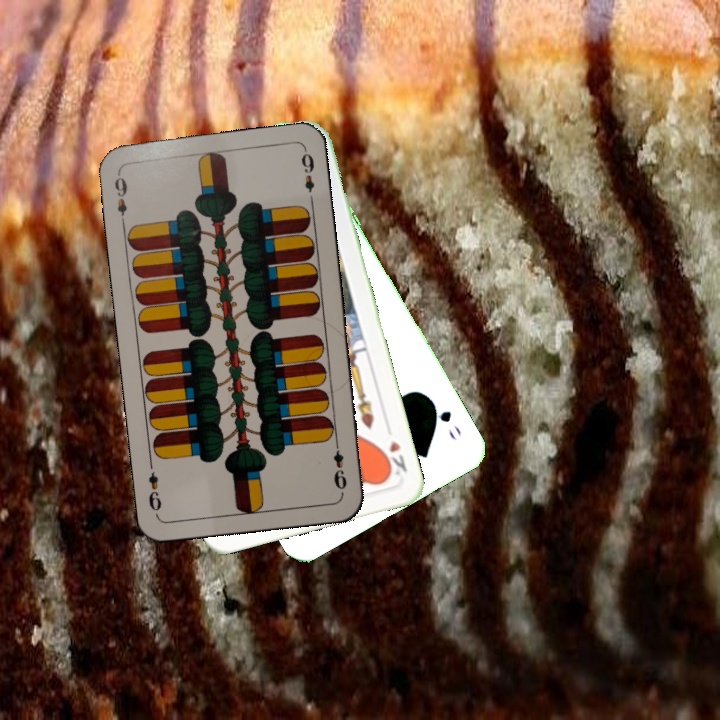E9: (329, 436, 350, 495), (110, 168, 130, 228)
GO: (426, 395, 464, 444)
HK: (379, 436, 410, 482)
